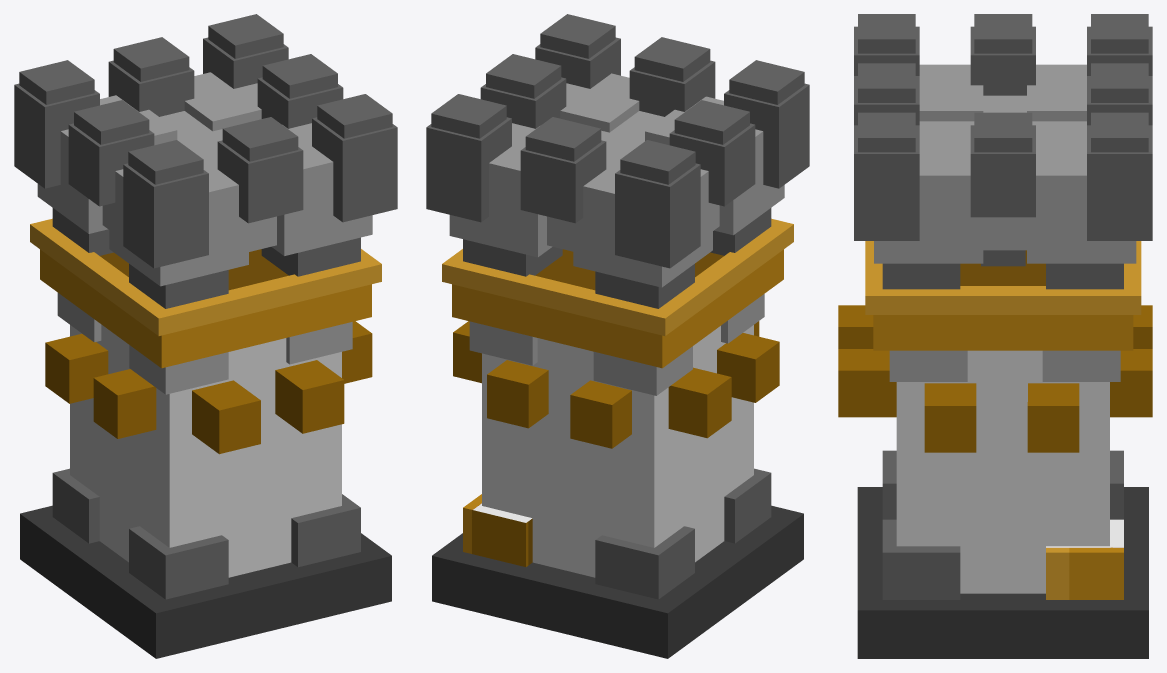
Rendered from Archer_Tower.fbx.
3 views of the same model, side by side, from view 1: azimuth 30°, elevation 25°; view 2: azimuth 150°, elevation 25°; view 3: azimuth 270°, elevation 25° (orthographic). The views are drawn at different scales.
Parts seen in each view (by area): view 1: archer; view 2: archer; view 3: archer.
Boxes of the visible parts, box(x1,y1,x2,y2) form: archer: box(14, 14, 397, 658); archer: box(426, 14, 809, 658); archer: box(838, 14, 1152, 658).
Bounding box in the file's own units: 0.9708 × 1.78 × 0.9711.
